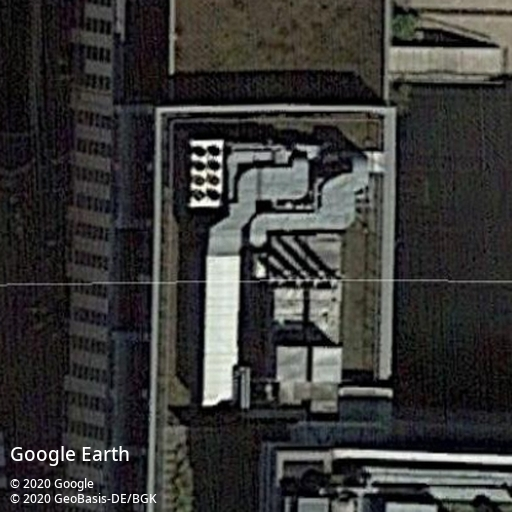Chiller: (189, 139, 224, 207)
